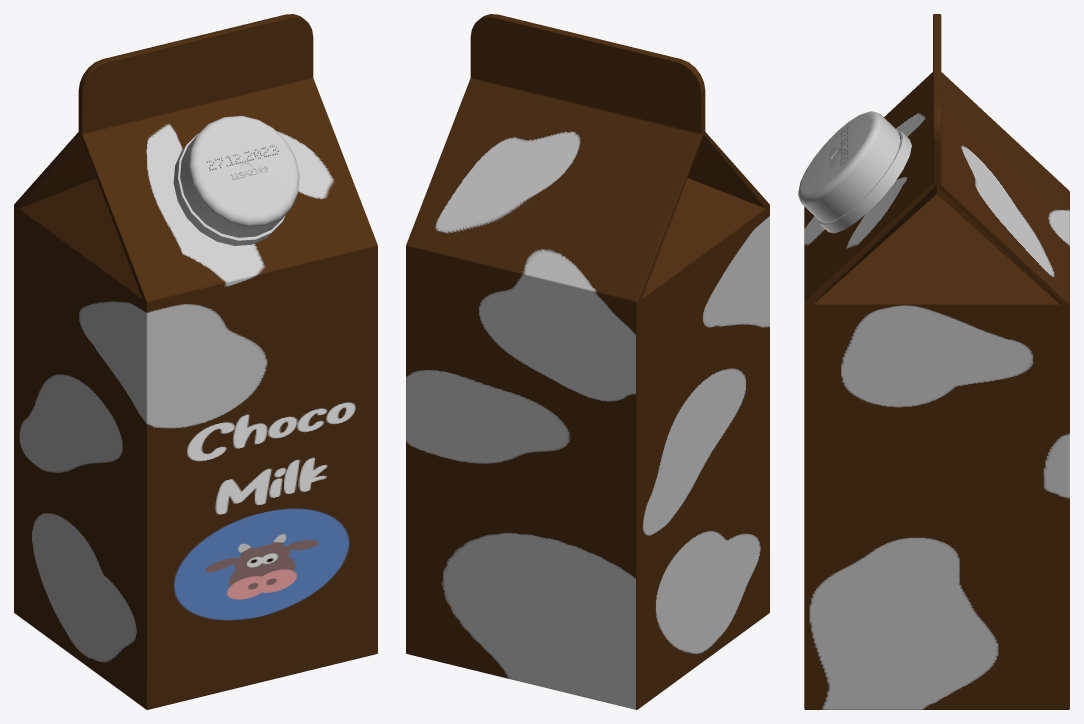
Rendered from Milk_Carton_Chocolate.fbx.
3 renders of one model, left to right at view 1: azimuth 30°, elevation 25°; view 2: azimuth 150°, elevation 25°; view 3: azimuth 270°, elevation 25°, orthographic.
Parts seen in each view (by area): view 1: pCylinder55; view 2: pCylinder55; view 3: pCylinder55.
Boxes of the visible parts, <box> form: pCylinder55: <box>14,14,377,709</box>; pCylinder55: <box>406,14,769,709</box>; pCylinder55: <box>798,14,1069,709</box>.
Bounding box in the file's own units: 0.9354 × 2.3 × 0.9545.
1 material, 1 textured.
